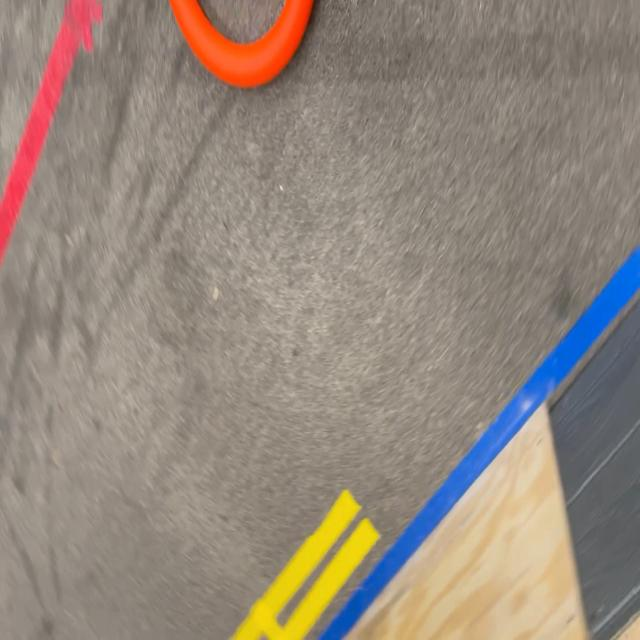note: (168, 0, 316, 84)
